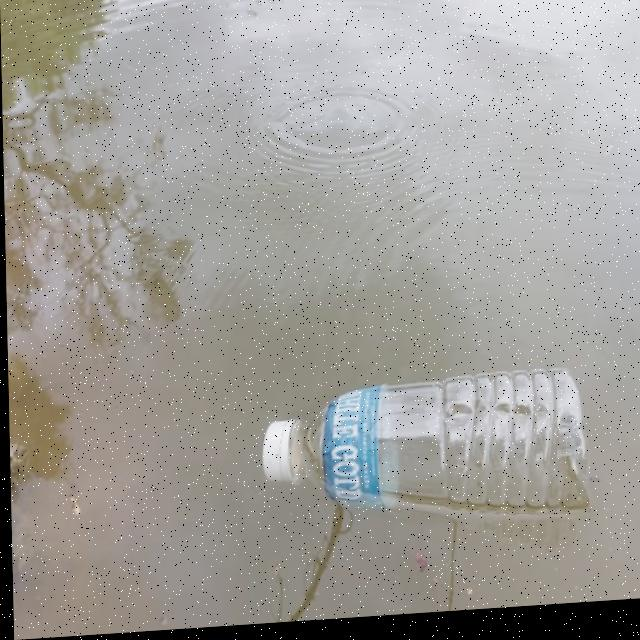waterbottle: (232, 359, 584, 569)
